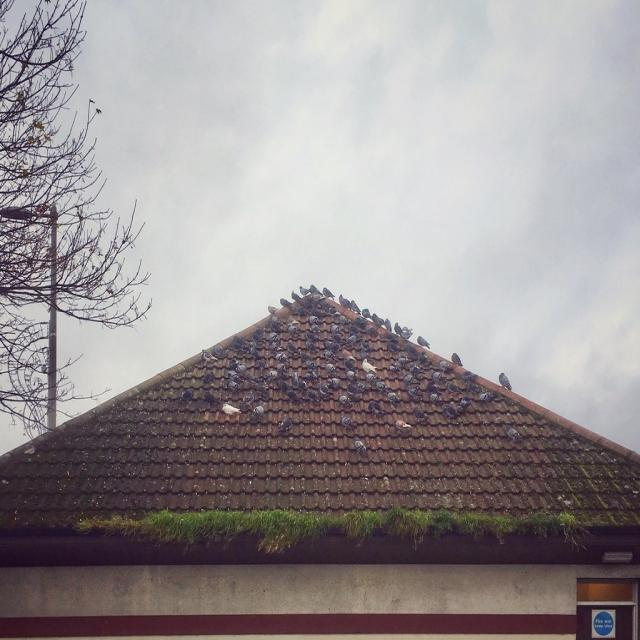bird: (498, 372, 512, 392), (507, 426, 521, 441), (417, 336, 431, 349), (451, 352, 463, 367), (402, 326, 413, 340), (479, 390, 490, 402), (459, 397, 471, 407), (394, 323, 401, 336)
